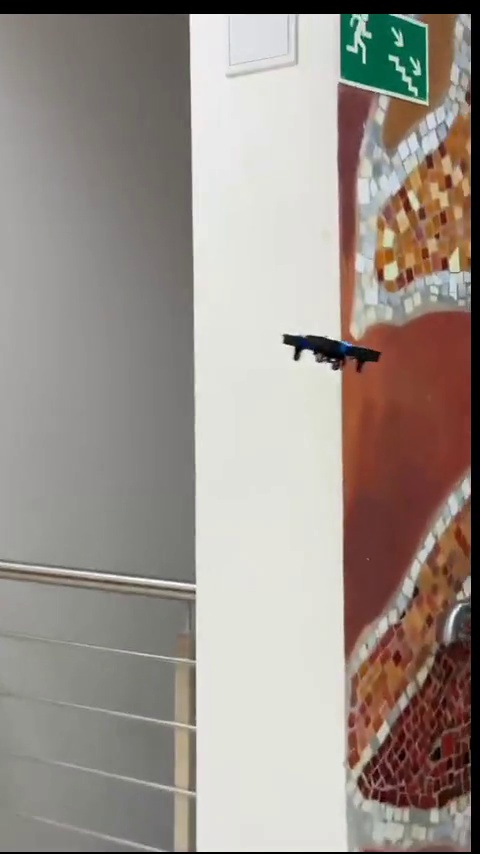drone: (280, 333, 378, 373)
